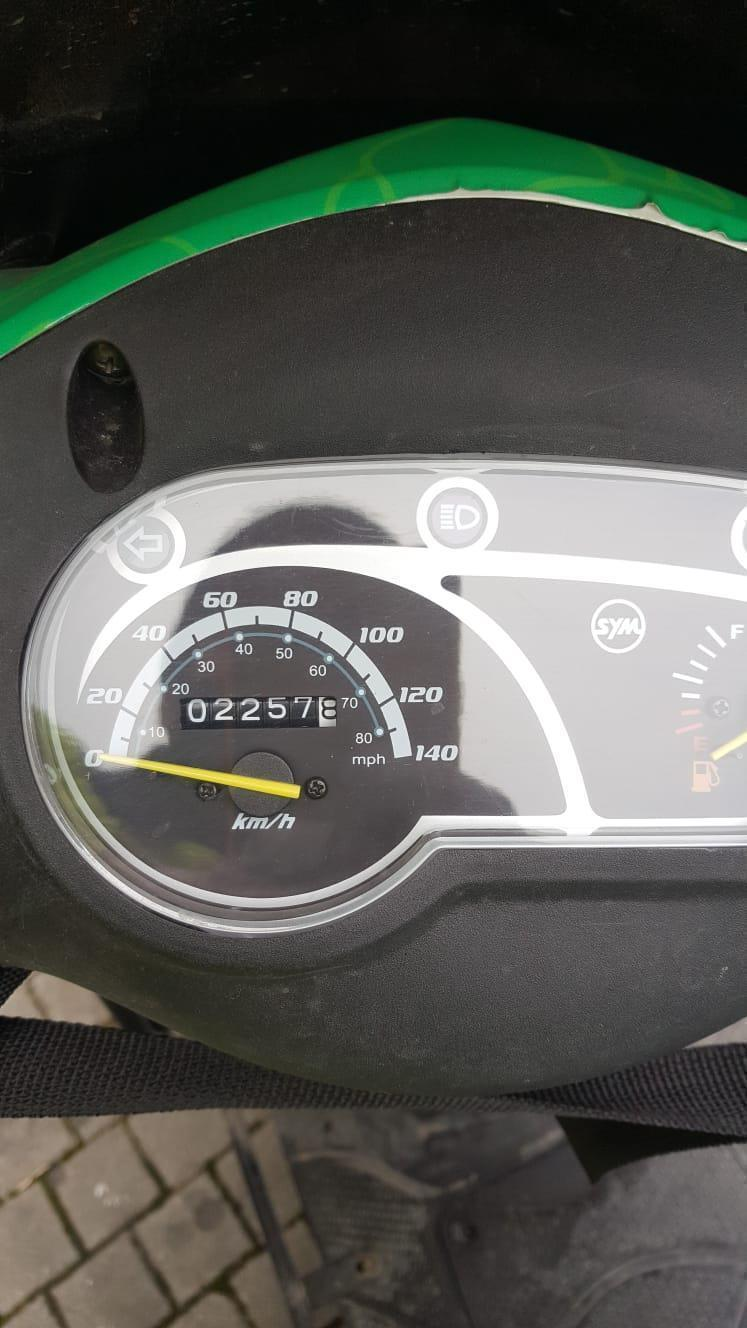0: (185, 697, 206, 723)
2: (210, 695, 234, 722), (239, 696, 260, 721)
5: (266, 695, 286, 721)
7: (293, 695, 313, 720)
8: (318, 697, 340, 722)
odometer: (179, 692, 343, 735)
